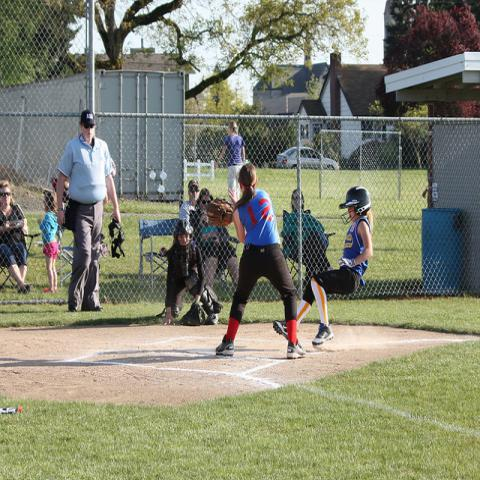car: (276, 146, 340, 171)
